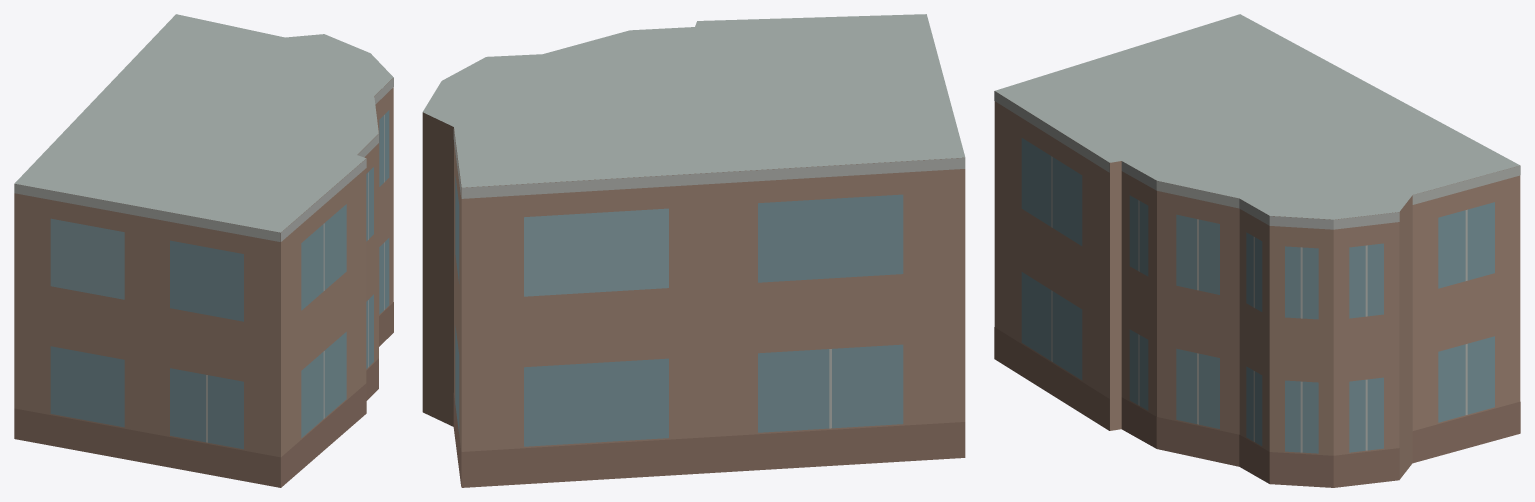
File: survey-upis-32671295.glb
3 renders of one model, left to right at view 1: azimuth 30°, elevation 25°; view 2: azimuth 150°, elevation 25°; view 3: azimuth 270°, elevation 25°, orthographic. The views are drawn at different scales.
Parts seen in each view (by area): view 1: survey-upis-32671295.tmp; view 2: survey-upis-32671295.tmp; view 3: survey-upis-32671295.tmp.
Part boxes in pixels (bbox=[...]): survey-upis-32671295.tmp: bbox=[14, 14, 393, 487]; survey-upis-32671295.tmp: bbox=[422, 14, 965, 487]; survey-upis-32671295.tmp: bbox=[994, 14, 1520, 487].
Bounding box in the file's own units: 10.7 × 6.5 × 11.56.
